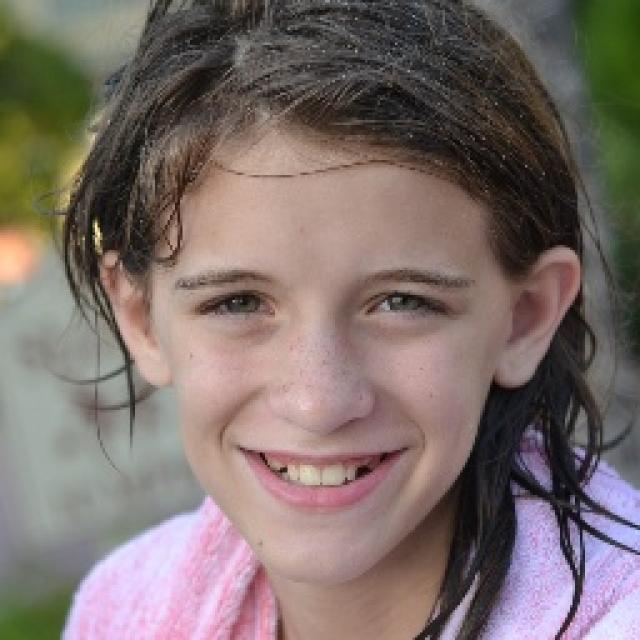earlobe: (495, 244, 583, 390), (98, 249, 174, 390)
